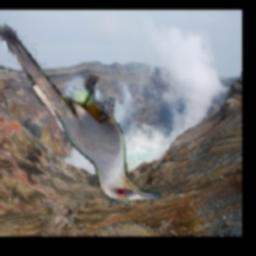Cuckoo: (0, 21, 161, 203)
